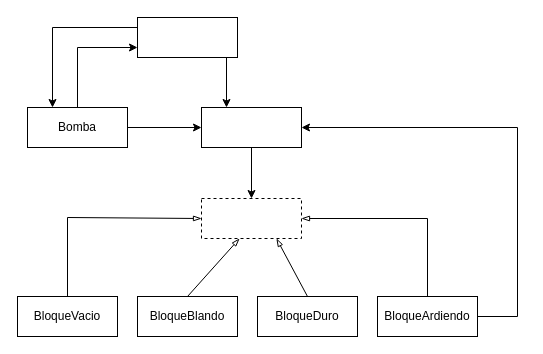
Some shapes in this 543 by 354 pixel diagram are drawn without their labels. The shapes that lost their labels are listed below. From the top down, each one's box as (x1, y1, x2, y2) in pixels, then its label:
(136, 16, 238, 58): Bomberman
(200, 106, 302, 148): MatrizBloques
(200, 198, 302, 238): Bloque
